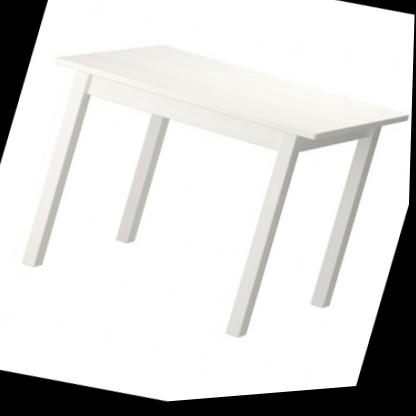Table: (0, 0, 415, 389)
